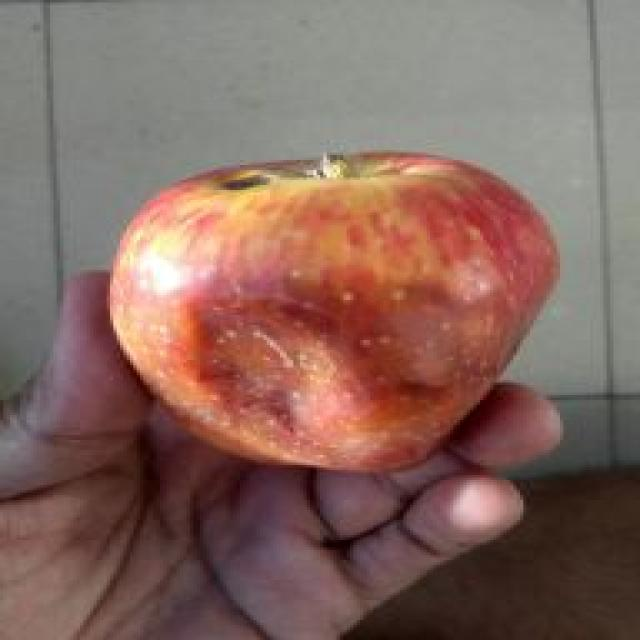Bad_Apple: (110, 154, 558, 471)
